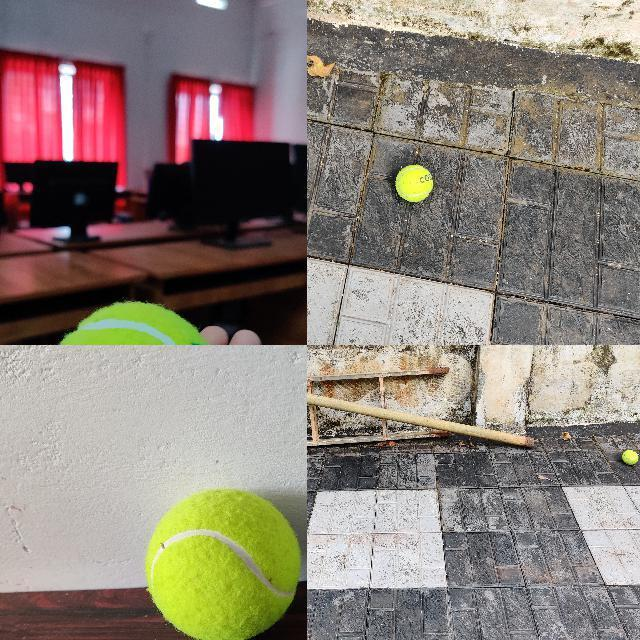tennis-ball: (144, 488, 302, 639), (44, 302, 224, 344), (394, 164, 434, 202), (622, 450, 638, 464)
